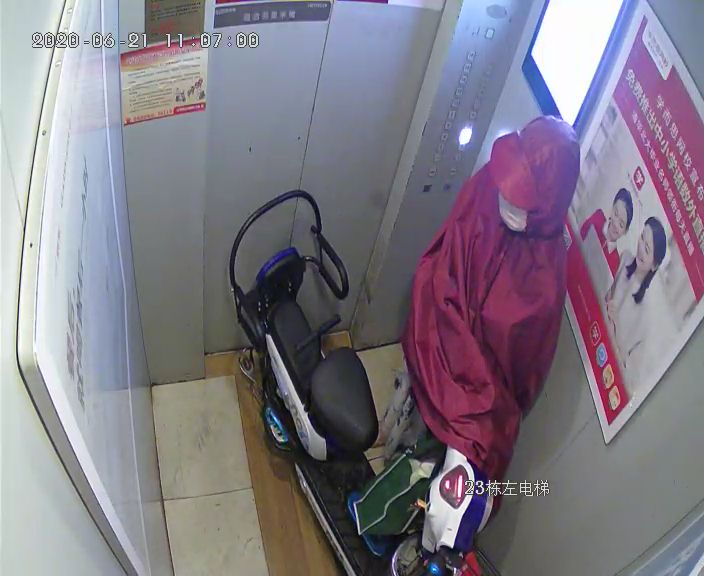Electric-bicycle: (225, 191, 495, 575)
